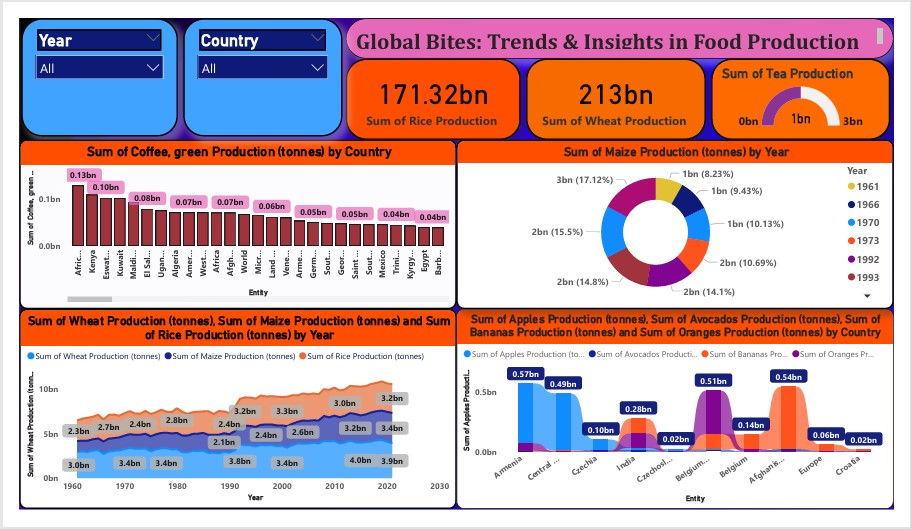

The dashboard page shown, as its layout file describes it:
{"tool":"powerbi","page":{"name":"Dashboard","canvas":[1280,720],"ordinal":12},"visuals":[{"type":"textbox","box":[478,0,802,58.8],"z":0},{"type":"card","fields":{"Values":["Sum(world_food_production_cleaned.Rice Production (tonnes))"]},"box":[478,58.8,255.7,119.1],"z":1000},{"type":"card","fields":{"Values":["Sum(world_food_production_cleaned.Wheat Production (tonnes))"]},"box":[741.6,58.8,263.6,119.1],"z":2000},{"type":"gauge","fields":{"Y":["Sum(world_food_production_cleaned.Tea Production (tonnes))"]},"box":[1013.2,58.8,262,119.1],"z":3000},{"type":"slicer","fields":{"Values":["world_food_production_cleaned.Year"]},"box":[3.2,0,228.7,173.1],"z":4000},{"type":"clusteredColumnChart","title":"Sum of Coffee, green Production (tonnes) by Country","fields":{"Y":["Sum(world_food_production_cleaned.Coffee, green Production (tonnes))"],"Category":["world_food_production_cleaned.Entity"]},"box":[0,177.9,640,247.7],"z":5000},{"type":"stackedAreaChart","fields":{"Y":["Sum(world_food_production_cleaned.Wheat Production (tonnes))","Sum(world_food_production_cleaned.Maize Production (tonnes))","Sum(world_food_production_cleaned.Rice Production (tonnes))"],"Category":["world_food_production_cleaned.Year"]},"box":[0,425.6,640,293.8],"z":6000},{"type":"ribbonChart","title":"Sum of Apples Production (tonnes), Sum of Avocados Production (tonnes), Sum of Bananas Production (tonnes) and Sum of Oranges Production (tonnes) by Country","fields":{"Y":["Sum(world_food_production_cleaned.Apples Production (tonnes))","Sum(world_food_production_cleaned.Avocados Production (tonnes))","Sum(world_food_production_cleaned.Bananas Production (tonnes))","Sum(world_food_production_cleaned.Oranges Production (tonnes))"],"Category":["world_food_production_cleaned.Entity"]},"box":[640,425.6,640,293.8],"z":7000},{"type":"donutChart","fields":{"Y":["Sum(world_food_production_cleaned.Maize Production (tonnes))"],"Series":["world_food_production_cleaned.Year"]},"box":[640,177.9,640,247.7],"z":8000},{"type":"slicer","fields":{"Values":["world_food_production_cleaned.Entity"]},"box":[239.8,0,233.4,173.1],"z":9000}]}

Visuals, with their boxes on the page's 1280x720 design canvas (x1, y1, x2, y2). These are canvas units, not pixel positions in the 911x529 screenshot, which may show the page scaled, cropped or inside an application window:
textbox: x1=478 y1=0 x2=1280 y2=59
card - Sum(world_food_production_cleaned.Rice Production (tonnes)): x1=478 y1=59 x2=734 y2=178
card - Sum(world_food_production_cleaned.Wheat Production (tonnes)): x1=742 y1=59 x2=1005 y2=178
gauge - Sum(world_food_production_cleaned.Tea Production (tonnes)): x1=1013 y1=59 x2=1275 y2=178
slicer - world_food_production_cleaned.Year: x1=3 y1=0 x2=232 y2=173
"Sum of Coffee, green Production (tonnes) by Country" clusteredColumnChart: x1=0 y1=178 x2=640 y2=426
stackedAreaChart - Sum(world_food_production_cleaned.Wheat Production (tonnes)) x Sum(world_food_production_cleaned.Maize Production (tonnes)): x1=0 y1=426 x2=640 y2=719
"Sum of Apples Production (tonnes), Sum of Avocados Production (tonnes), Sum of Bananas Production (tonnes) and Sum of Oranges Production (tonnes) by Country" ribbonChart: x1=640 y1=426 x2=1280 y2=719
donutChart - Sum(world_food_production_cleaned.Maize Production (tonnes)) x world_food_production_cleaned.Year: x1=640 y1=178 x2=1280 y2=426
slicer - world_food_production_cleaned.Entity: x1=240 y1=0 x2=473 y2=173
